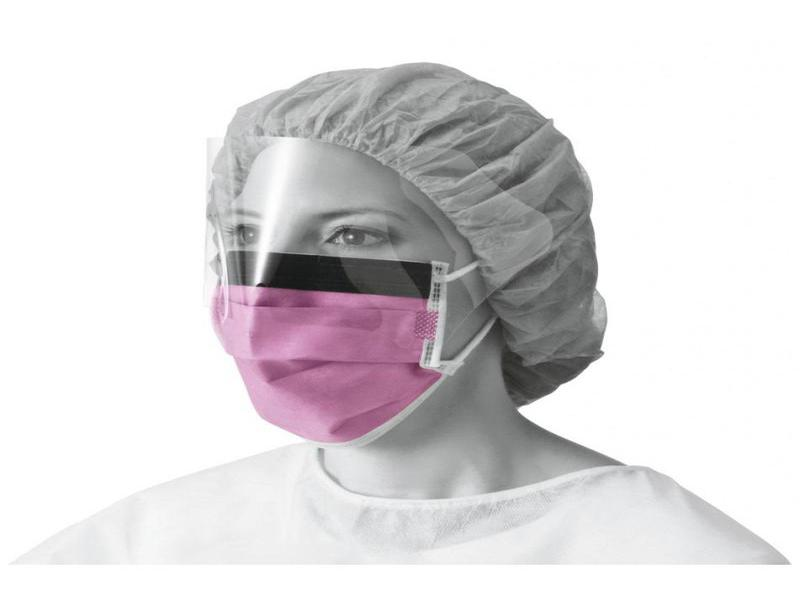with_mask: (203, 66, 574, 453)
